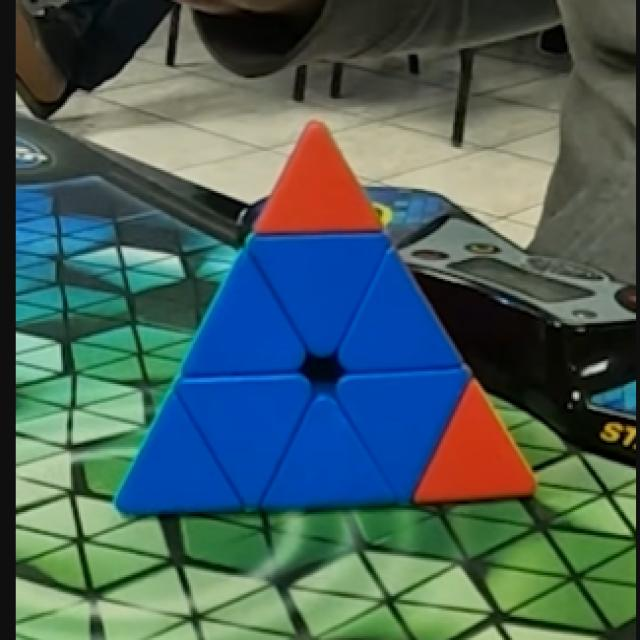Pyraminx: (118, 122, 534, 512)
